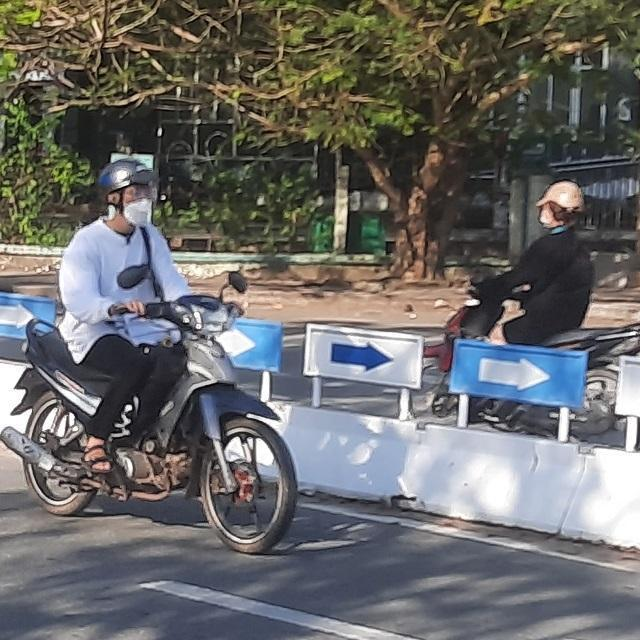Helmet: (92, 156, 160, 237), (513, 176, 599, 238)
